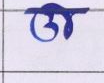i_matra: (54, 2, 73, 38)
